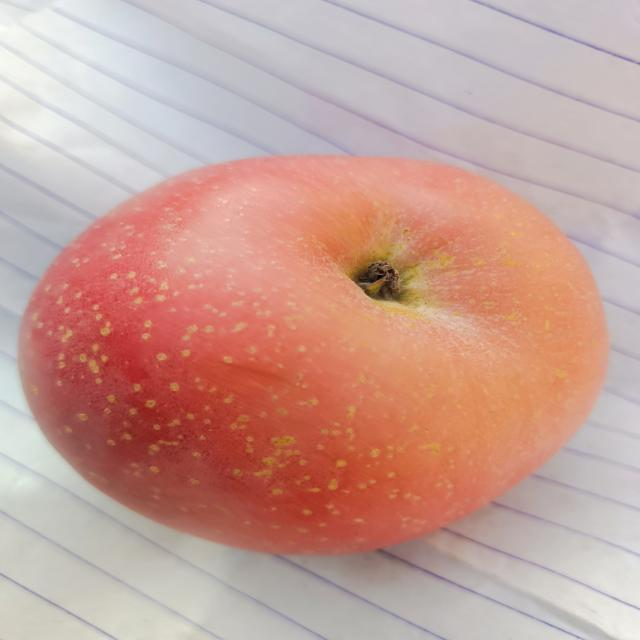Fresh Apple: (18, 152, 600, 555)
